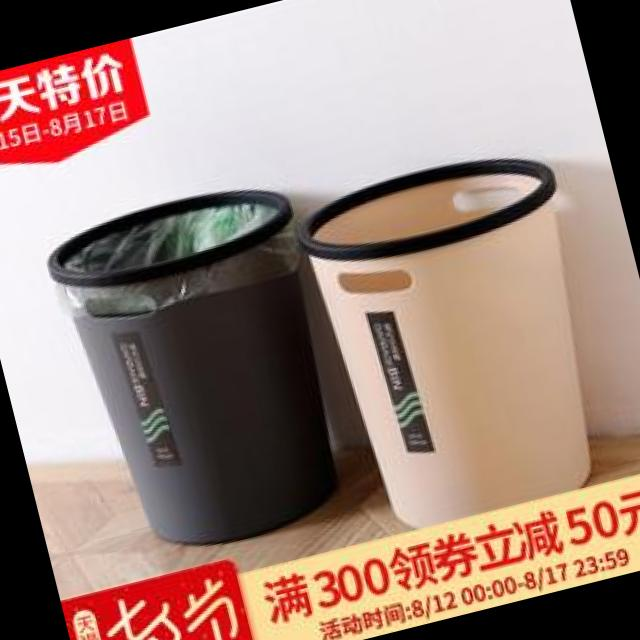dustbin: (294, 133, 634, 538), (35, 168, 371, 574)
